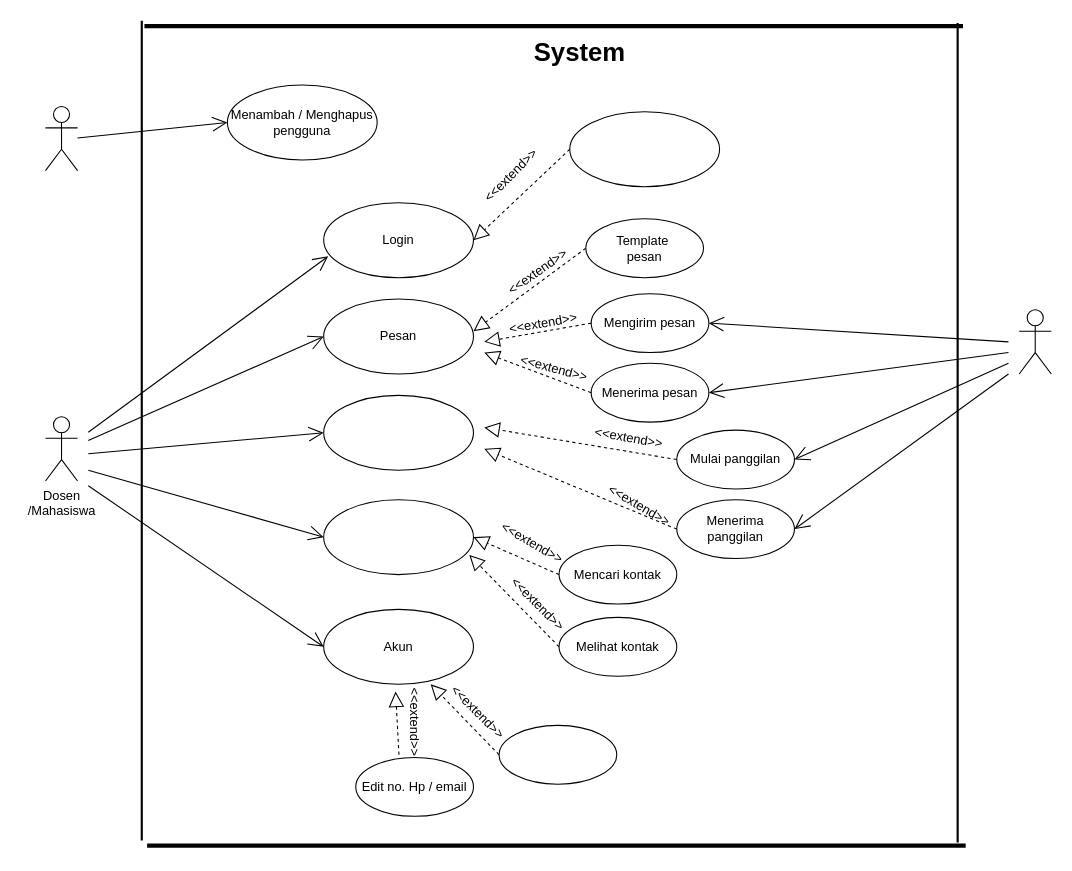
Some shapes in this 1072 by 871 pixel diagram are drawn without their labels. The shapes that lost their labels are listed below. From the top down, each one's centre as x and y in pixels, then its label:
the point at 61,138: Admin/Kampus
the point at 644,149: Lupa password
the point at 1034,341: Server
the point at 398,432: Panggilan
the point at 398,537: Kontak
the point at 557,754: Logout
